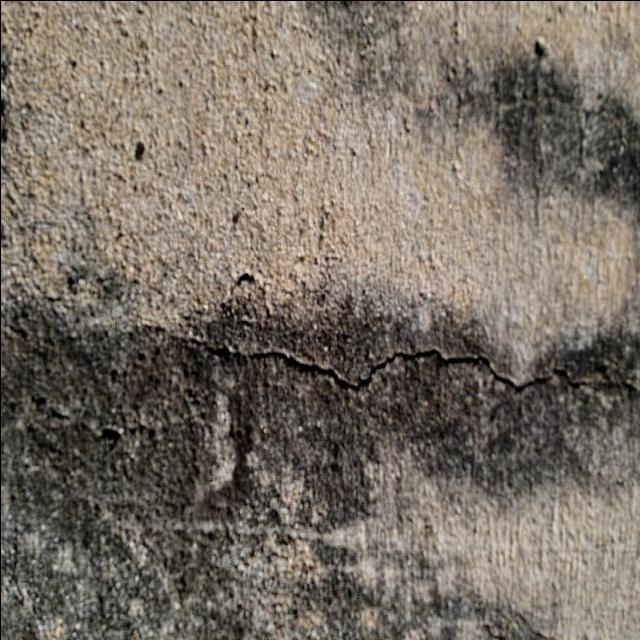SurfaceCrack: (2, 272, 639, 436)
